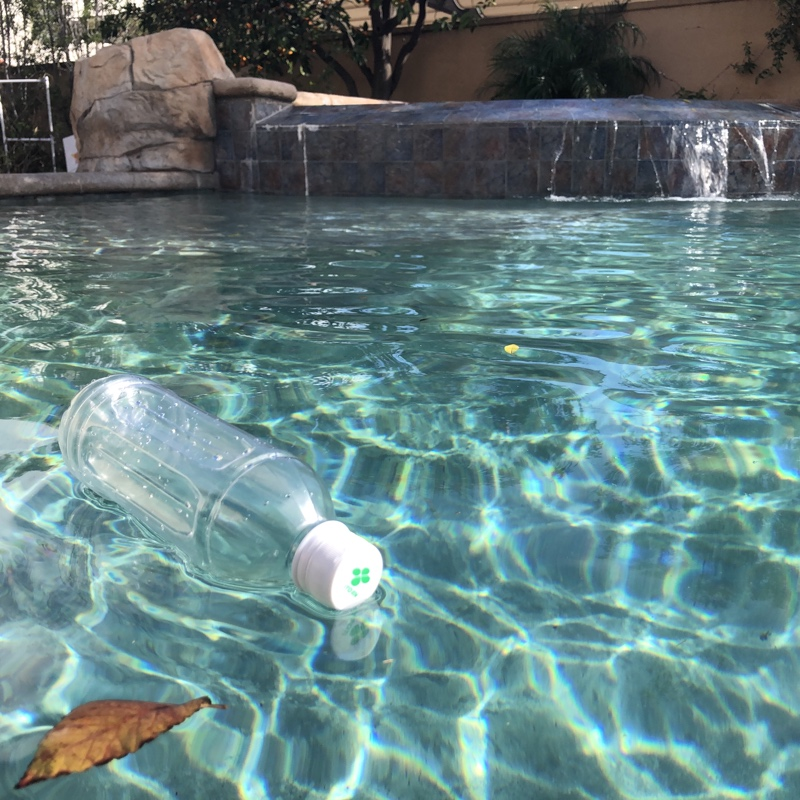Plastic Bottle: (53, 374, 386, 614)
